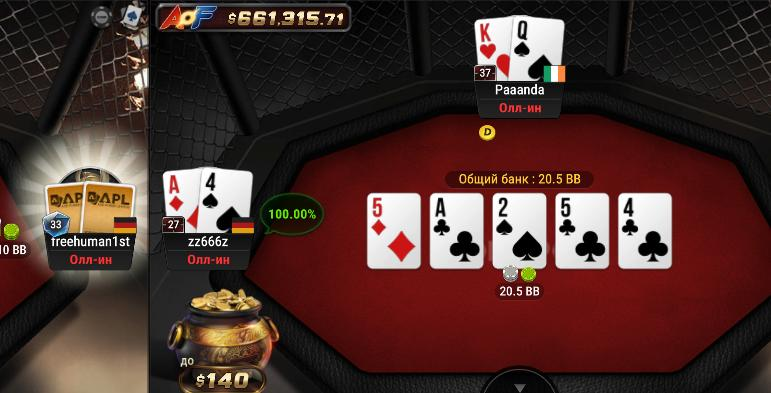2s: (492, 194, 546, 269)
4c: (618, 193, 672, 269)
4s: (201, 167, 252, 232)
5c: (556, 194, 607, 268)
5d: (367, 194, 421, 268)
Ac: (431, 194, 485, 269)
Ad: (163, 169, 200, 233)
Kh: (473, 17, 511, 80)
Qs: (511, 16, 562, 81)
